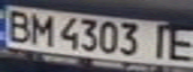0: (96, 18, 121, 55)
3: (118, 19, 145, 57), (75, 16, 100, 53)
4: (54, 15, 81, 51)
B: (3, 7, 36, 43)
E: (163, 28, 193, 63)
I: (142, 22, 175, 61)
M: (24, 11, 57, 46)
